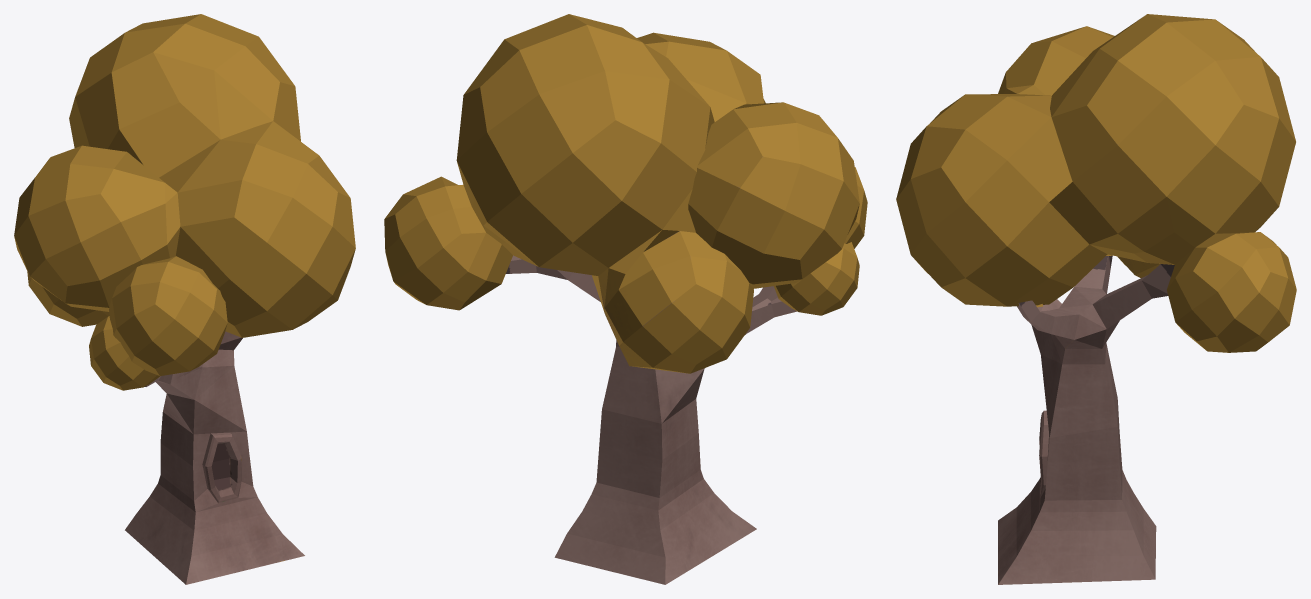
File: 3DObj_TreeHole_v2.fbx
3 views of the same model, side by side, from view 1: azimuth 30°, elevation 25°; view 2: azimuth 150°, elevation 25°; view 3: azimuth 270°, elevation 25° (orthographic). The views are drawn at different scales.
Visible parts, largest first — view 1: 3DObj_TreeHole_v2; view 2: 3DObj_TreeHole_v2; view 3: 3DObj_TreeHole_v2.
Boxes of the visible parts, x1,y1,x2,y2 form: 3DObj_TreeHole_v2: (14, 14, 355, 584); 3DObj_TreeHole_v2: (384, 14, 867, 584); 3DObj_TreeHole_v2: (896, 14, 1296, 584).
Bounding box in the file's own units: 354 × 487 × 328.
Materials: 1 (1 with a texture image).
